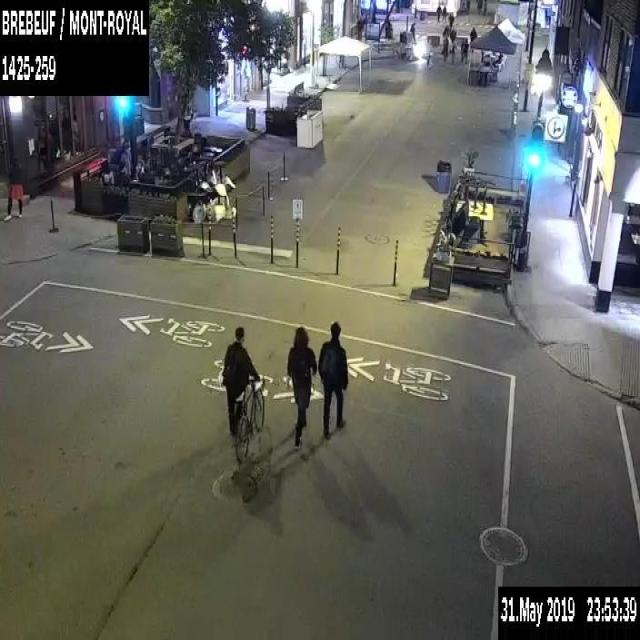pedestrian: (221, 322, 267, 468), (284, 323, 316, 445), (319, 323, 347, 445), (2, 158, 22, 222), (468, 25, 476, 52), (461, 38, 468, 62), (442, 36, 448, 60), (450, 28, 456, 52), (409, 20, 416, 39), (441, 2, 447, 22), (435, 2, 440, 22), (448, 12, 453, 26)
